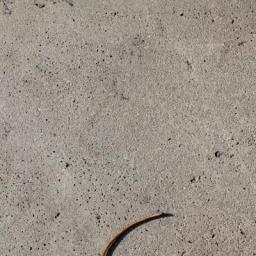FOD: (101, 211, 168, 256)
